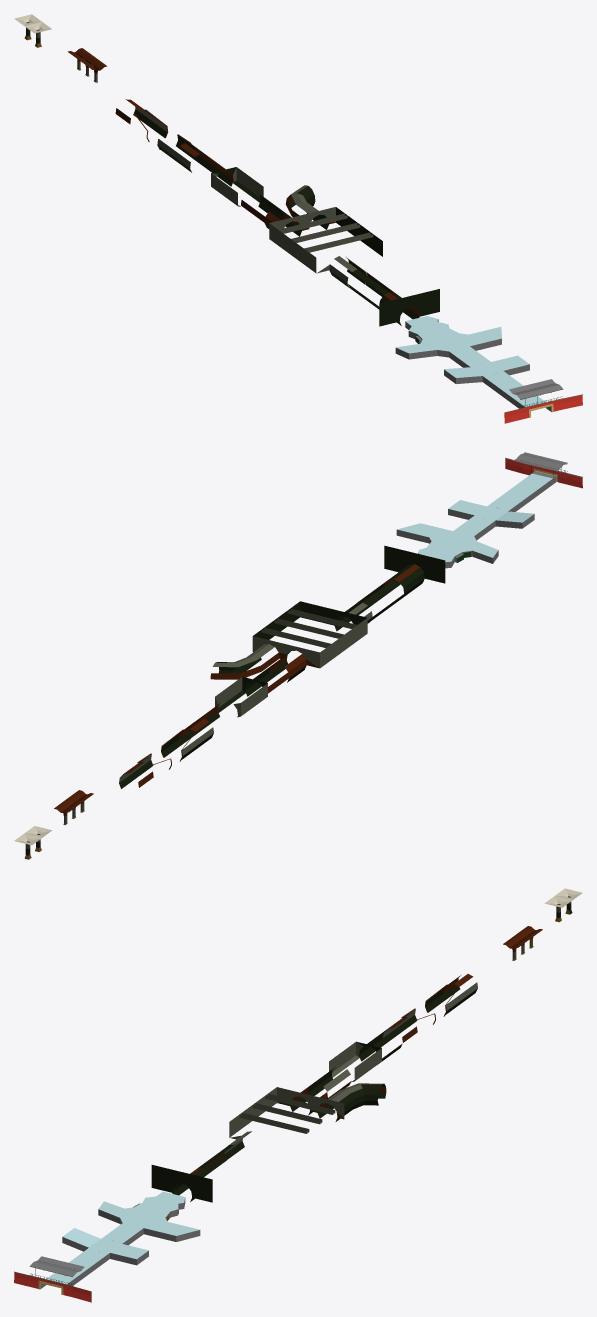
Rendered from podchod a tunel.fbx.
The picture shows the model from 3 angles, top to bottom: view 1: azimuth 30°, elevation 25°; view 2: azimuth 150°, elevation 25°; view 3: azimuth 330°, elevation 25°; orthographic projection.
Parts seen in each view (by area): view 1: tunel místnost, podchod levá strana, podchod levá strana.001, tunel segment 2, tunel entry, podchod entry, tunel rozbitý, tunel rozbitý.001; view 2: tunel místnost, podchod levá strana, podchod levá strana.001, tunel entry, tunel segment 2, podchod entry, tunel rozbitý, tunel rozbitý.001, tunel segment 1; view 3: tunel místnost, podchod levá strana.001, podchod levá strana, tunel segment 2, tunel entry, podchod entry, tunel rozbitý.001, tunel rozbitý.
Part boxes in pixels (x1,y1,x2,y2): tunel místnost: [264, 185, 382, 287]; podchod levá strana: [395, 318, 535, 408]; podchod levá strana.001: [418, 316, 551, 411]; tunel segment 2: [206, 155, 284, 222]; tunel entry: [379, 289, 439, 326]; podchod entry: [504, 379, 582, 423]; tunel rozbitý: [157, 134, 209, 172]; tunel rozbitý.001: [115, 99, 168, 141]; tunel místnost: [210, 601, 372, 682]; podchod levá strana: [432, 473, 556, 568]; podchod levá strana.001: [396, 471, 544, 556]; tunel entry: [384, 545, 445, 598]; tunel segment 2: [194, 665, 288, 733]; podchod entry: [497, 452, 582, 507]; tunel rozbitý: [161, 719, 213, 761]; tunel rozbitý.001: [119, 753, 171, 788]; tunel segment 1: [353, 579, 403, 620]; tunel místnost: [224, 1083, 386, 1159]; podchod levá strana.001: [56, 1194, 200, 1285]; podchod levá strana: [40, 1191, 174, 1288]; tunel segment 2: [308, 1029, 402, 1099]; tunel entry: [151, 1165, 212, 1202]; podchod entry: [14, 1240, 112, 1302]; tunel rozbitý.001: [425, 974, 477, 1016]; tunel rozbitý: [383, 1008, 435, 1043].
Size of the model in its own units: 4449 by 1201 by 39787.
